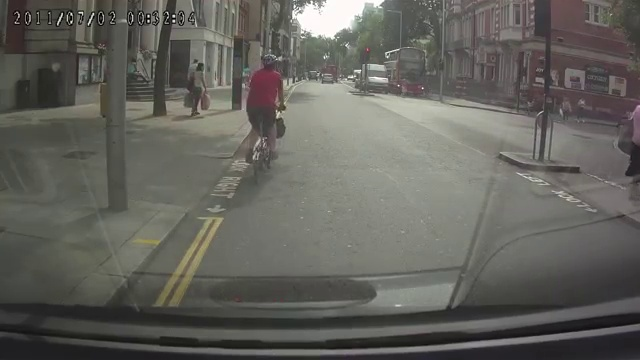cyclist_back: (243, 52, 287, 187)
